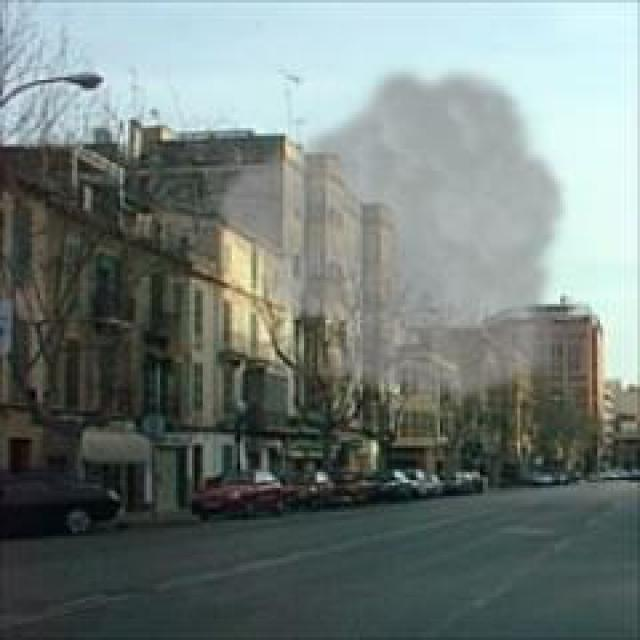Smoke: (218, 65, 564, 397)
